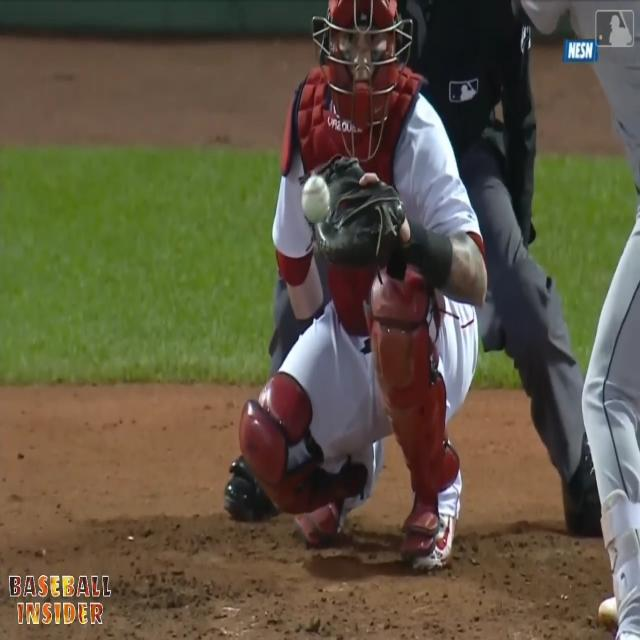baseball: (302, 176, 330, 223)
